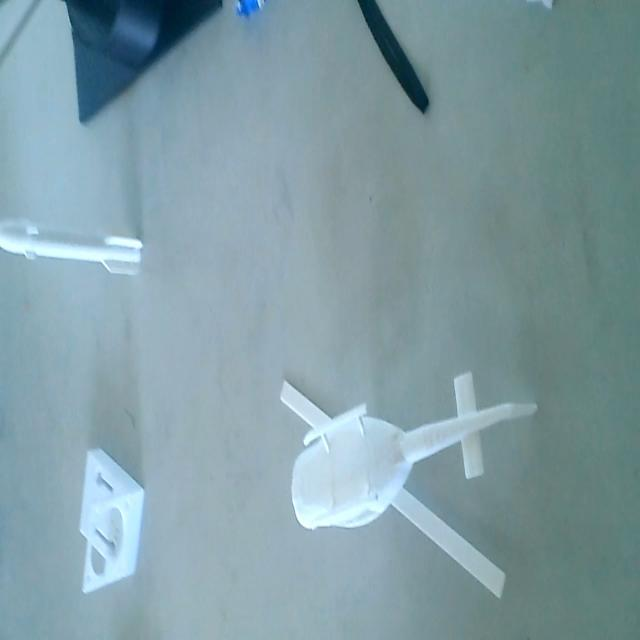Helicopter: (278, 361, 542, 605)
Rocket: (0, 203, 150, 279)
